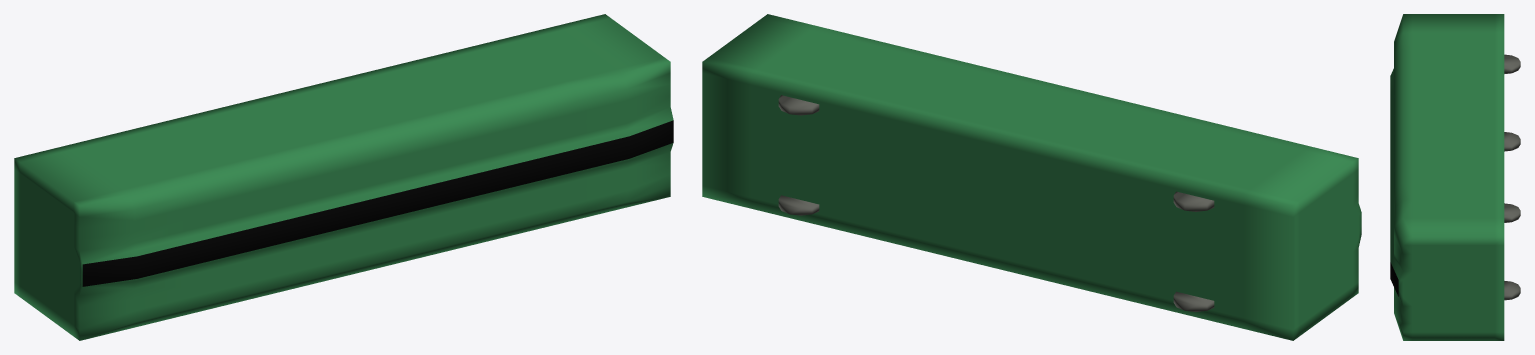
File: asset36.glb
3 views of the same model, side by side, from view 1: azimuth 30°, elevation 25°; view 2: azimuth 150°, elevation 25°; view 3: azimuth 270°, elevation 25° (orthographic). The views are drawn at different scales.
Parts seen in each view (by area): view 1: Cube1; view 2: Cube1, Cylinder3, Cylinder3_copy4, Cylinder3_copy6, Cylinder3_copy5; view 3: Cube1, Cylinder3_copy6, Cylinder3, Cylinder3_copy5, Cylinder3_copy4.
Part boxes in pixels (x1,y1,x2,y2): Cube1: (14,14,673,340); Cube1: (702,14,1361,340); Cylinder3: (778,95,819,115); Cylinder3_copy4: (778,195,819,215); Cylinder3_copy6: (1173,291,1214,311); Cylinder3_copy5: (1173,191,1214,211); Cube1: (1390,14,1504,340); Cylinder3_copy6: (1504,132,1520,151); Cylinder3: (1504,203,1520,222); Cylinder3_copy5: (1504,54,1520,73); Cylinder3_copy4: (1504,281,1520,300).
Bounding box in the file's own units: 0.9121 × 0.1991 × 0.2254.
